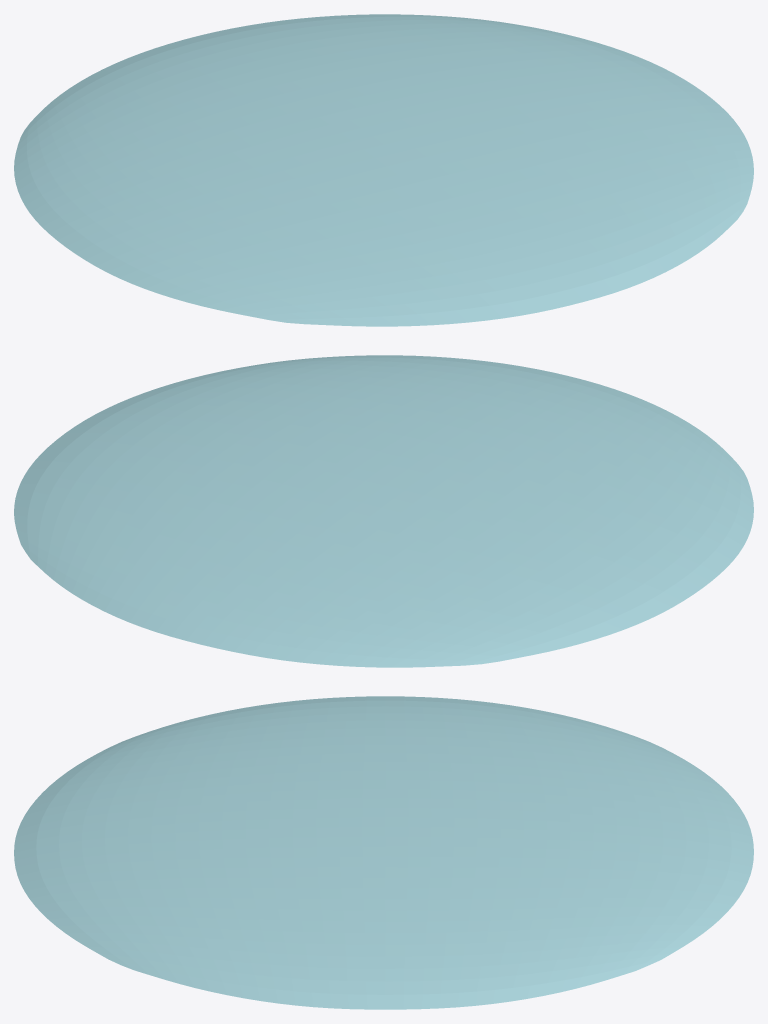
Rendered from plane_circular.fbx.
The picture shows the model from 3 angles, top to bottom: view 1: azimuth 30°, elevation 25°; view 2: azimuth 150°, elevation 25°; view 3: azimuth 270°, elevation 25°; orthographic projection.
Parts seen in each view (by area): view 1: Plane; view 2: Plane; view 3: Plane.
Boxes of the visible parts, bbox=[...] form: Plane: bbox=[14, 14, 753, 326]; Plane: bbox=[14, 355, 753, 667]; Plane: bbox=[14, 696, 753, 1009].
Bounding box in the file's own units: 50 × 2 × 50.
